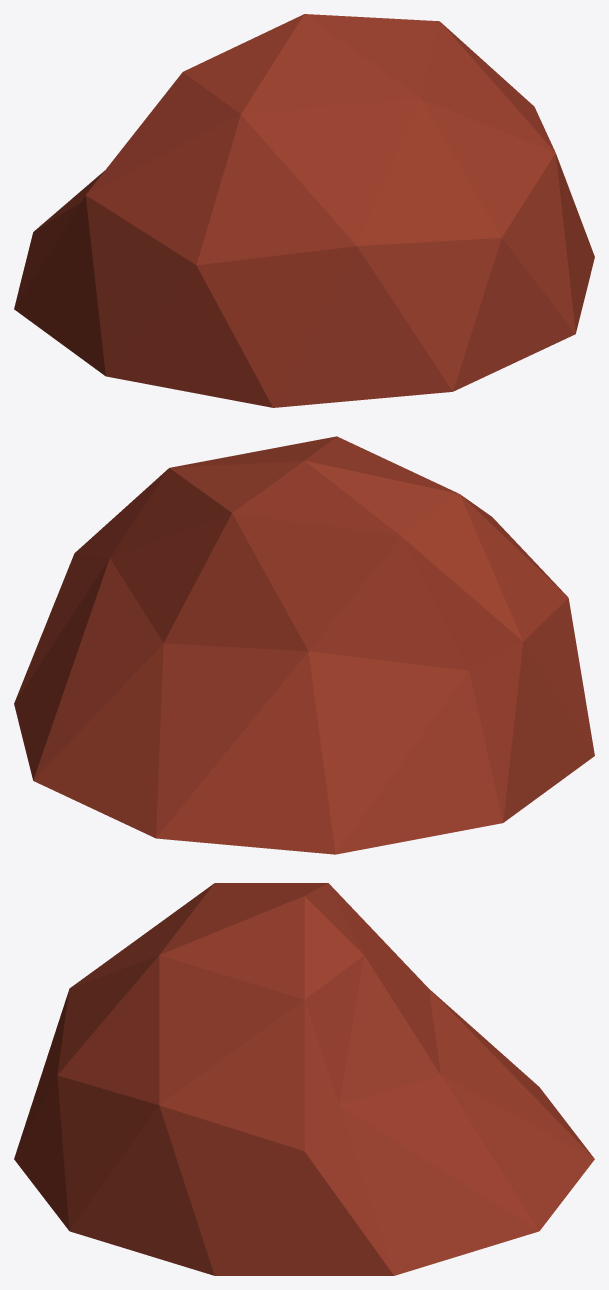
The model's file is stenen13.fbx.
3 renders of one model, top to bottom at view 1: azimuth 30°, elevation 25°; view 2: azimuth 150°, elevation 25°; view 3: azimuth 270°, elevation 25°, orthographic. The views are drawn at different scales.
Visible parts, largest first — view 1: Icosphere.008; view 2: Icosphere.008; view 3: Icosphere.008.
Boxes of the visible parts, x1=… form: Icosphere.008: x1=14, y1=14, x2=594, y2=407; Icosphere.008: x1=14, y1=436, x2=594, y2=854; Icosphere.008: x1=14, y1=883, x2=594, y2=1275.
Size of the model in its own units: 190 by 100 by 200.
